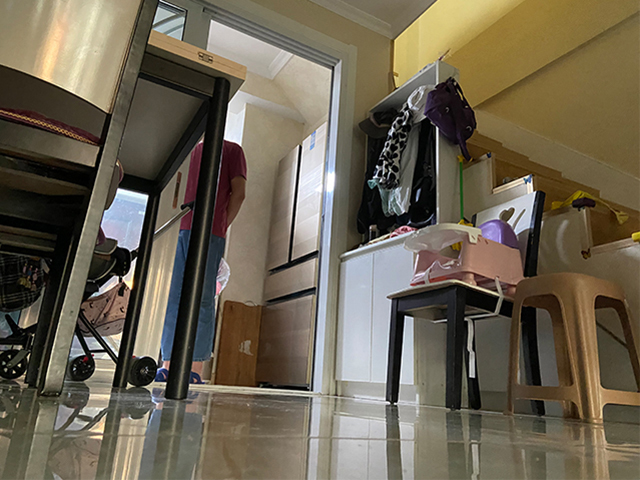cabinet: (332, 226, 451, 405)
stool: (1, 1, 155, 395), (383, 190, 547, 416), (505, 271, 640, 425)
table: (111, 29, 246, 400)
